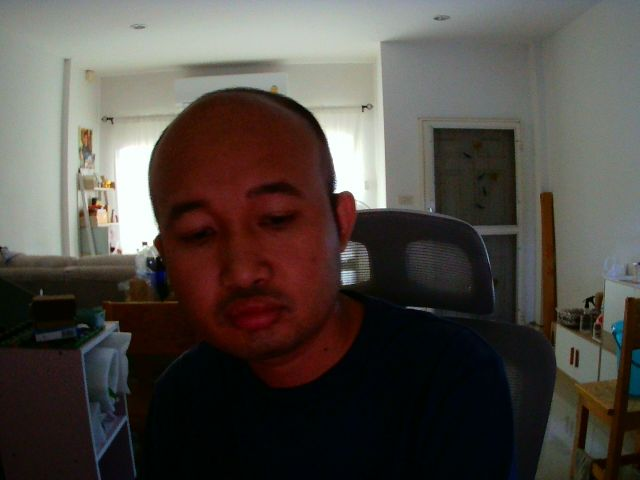face: (139, 88, 345, 365)
